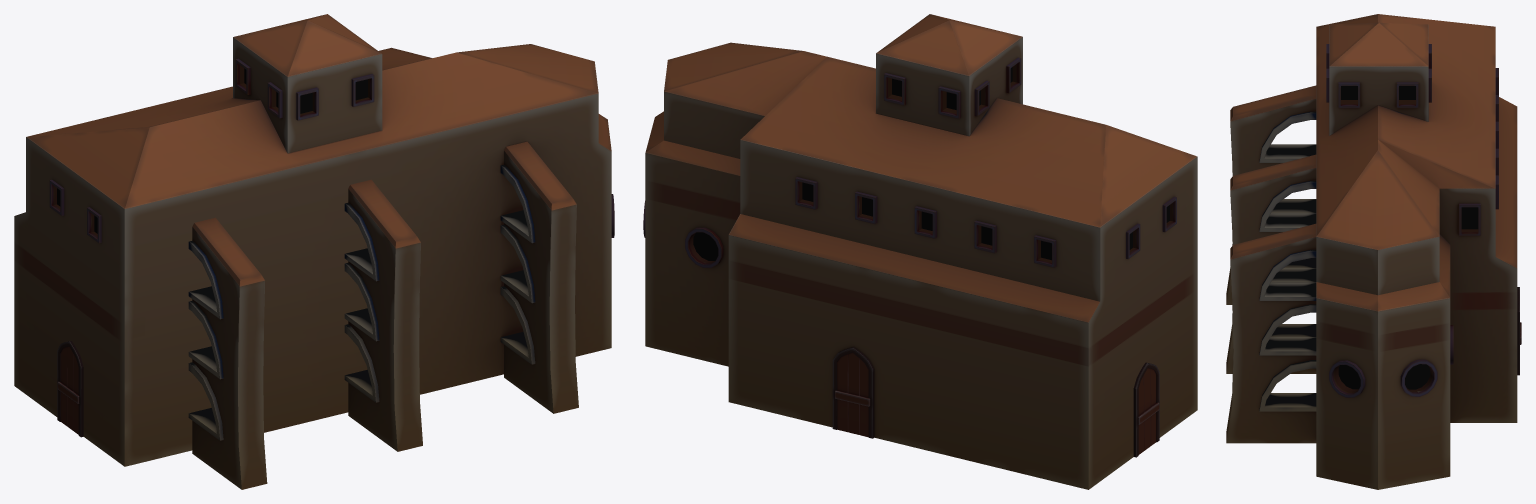
The model's file is byztev1.fbx.
3 renders of one model, left to right at view 1: azimuth 30°, elevation 25°; view 2: azimuth 150°, elevation 25°; view 3: azimuth 270°, elevation 25°, orthographic. The views are drawn at different scales.
Parts seen in each view (by area): view 1: Cube.009, Cube.008, Cube.007; view 2: Cube.009, Cube.011, Cube.008, Cube.010, Cube.007; view 3: Cube.009.
Boxes of the visible parts, x1=… form: Cube.009: x1=14, y1=14, x2=614, y2=489; Cube.008: x1=57, y1=346, x2=79, y2=434; Cube.007: x1=57, y1=341, x2=83, y2=437; Cube.009: x1=643, y1=14, x2=1197, y2=489; Cube.011: x1=835, y1=352, x2=870, y2=437; Cube.008: x1=1138, y1=368, x2=1159, y2=454; Cube.010: x1=832, y1=347, x2=874, y2=438; Cube.007: x1=1133, y1=362, x2=1159, y2=457; Cube.009: x1=1226, y1=14, x2=1517, y2=489.
Bounding box in the file's own units: 1100 × 749 × 594.
Materials: 1 (1 with a texture image).
